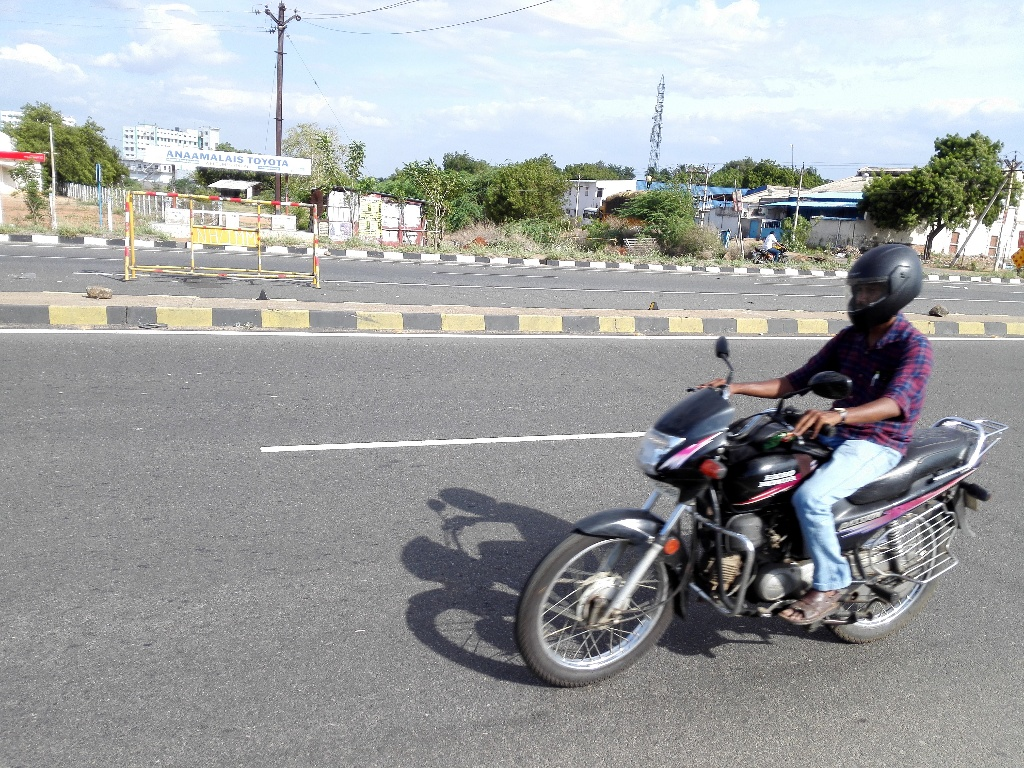biker: (491, 173, 1021, 711)
helmet: (830, 230, 940, 340)
